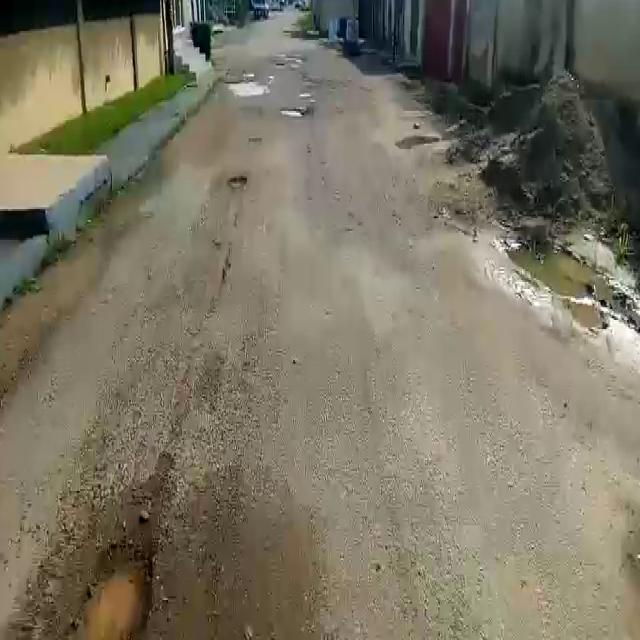Pothole: (64, 545, 155, 640), (227, 80, 271, 98), (226, 174, 247, 192), (277, 106, 307, 118)
